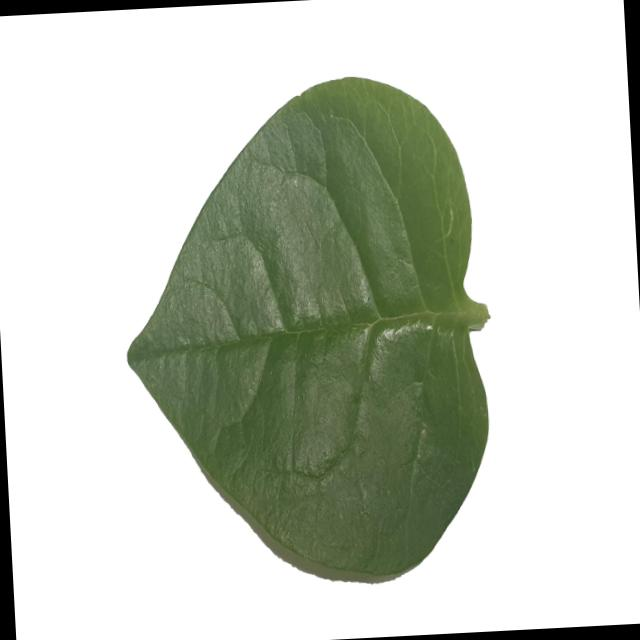Medicinal-Basale: (113, 66, 506, 591)
